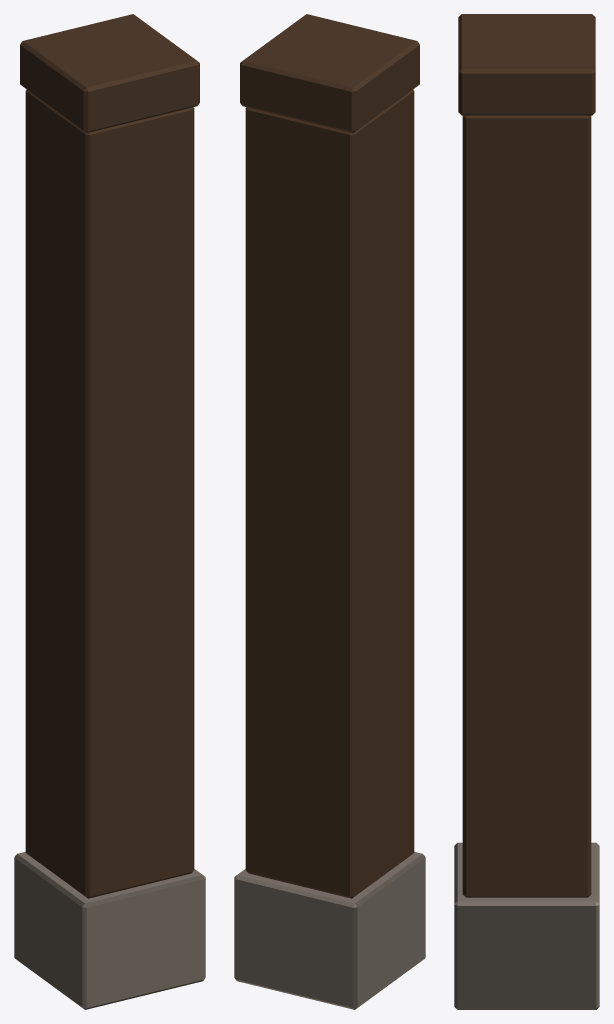
File: mdvl_village_wall_corner_01.glb
3 views of the same model, side by side, from view 1: azimuth 30°, elevation 25°; view 2: azimuth 150°, elevation 25°; view 3: azimuth 270°, elevation 25° (orthographic). The views are drawn at different scales.
Parts seen in each view (by area): view 1: mdvl_village_wall_corner_01; view 2: mdvl_village_wall_corner_01; view 3: mdvl_village_wall_corner_01.
Boxes of the visible parts, box(x1,y1,x2,y2) form: mdvl_village_wall_corner_01: box(14, 14, 205, 1009); mdvl_village_wall_corner_01: box(234, 14, 425, 1009); mdvl_village_wall_corner_01: box(454, 14, 599, 1009).
Size of the model in its own units: 0.34 by 2.42 by 0.34.
Materials: 1 (1 with a texture image).
